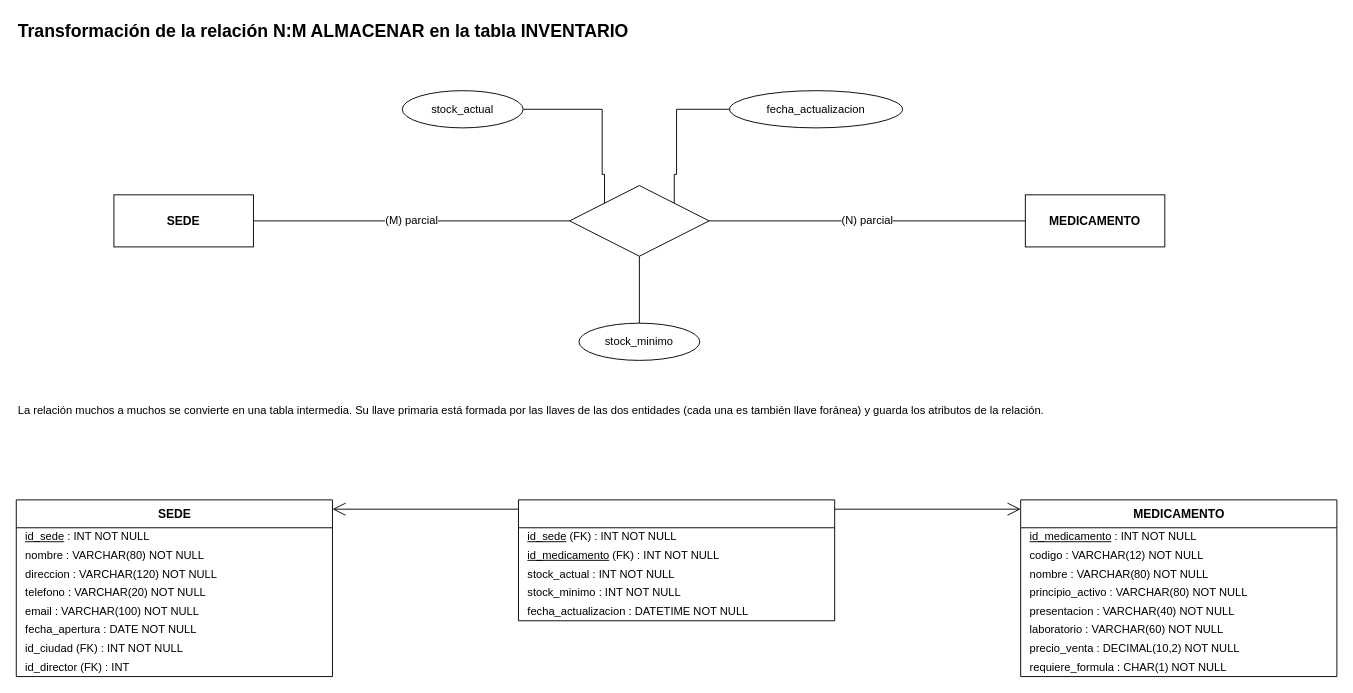
Some shapes in this 1353 by 693 pixel diagram are drawn without their labels. The box of each missing label's shape, as (x1, y1, x2, y2) in pixels:
ALMACENAR: (569, 185, 709, 256)
INVENTARIO: (518, 499, 835, 621)
